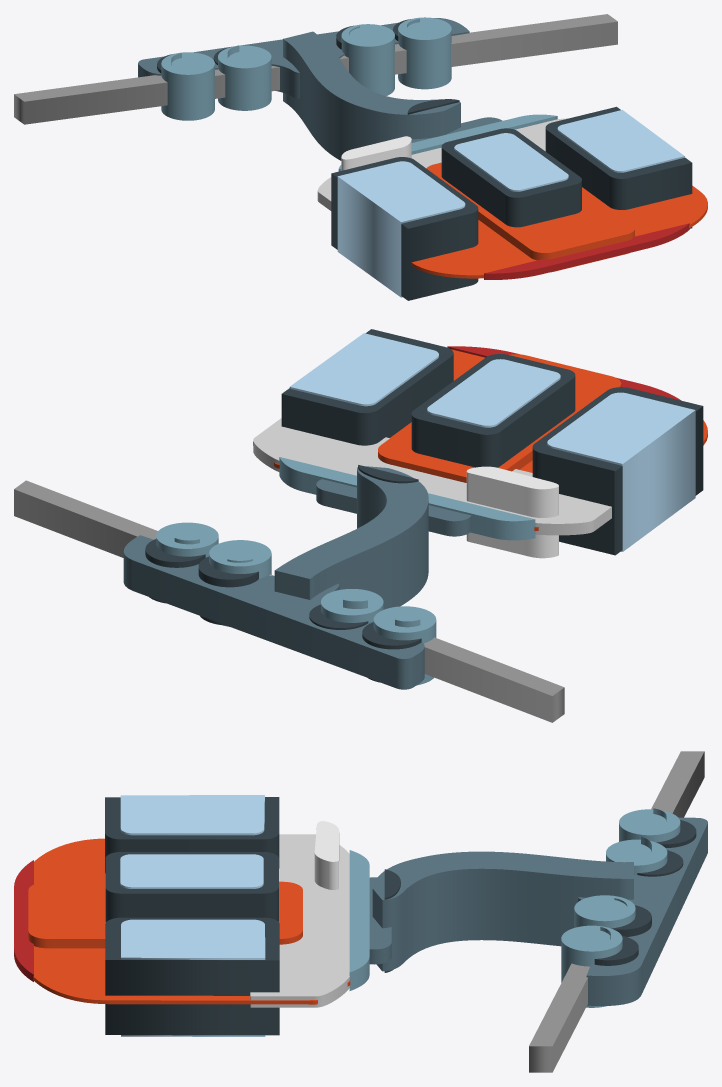
Rendered from emoji_u1f6a1.glb.
3 renders of one model, top to bottom at view 1: azimuth 30°, elevation 25°; view 2: azimuth 150°, elevation 25°; view 3: azimuth 270°, elevation 25°, orthographic. The views are drawn at different scales.
Parts seen in each view (by area): view 1: emoji_u1f6a1; view 2: emoji_u1f6a1; view 3: emoji_u1f6a1.
Boxes of the visible parts, left/top/right/bottom form: emoji_u1f6a1: left=14, top=14, right=707, bottom=300; emoji_u1f6a1: left=14, top=329, right=707, bottom=722; emoji_u1f6a1: left=14, top=751, right=707, bottom=1072.
Size of the model in its own units: 0.0337 by 0.005 by 0.0335.
